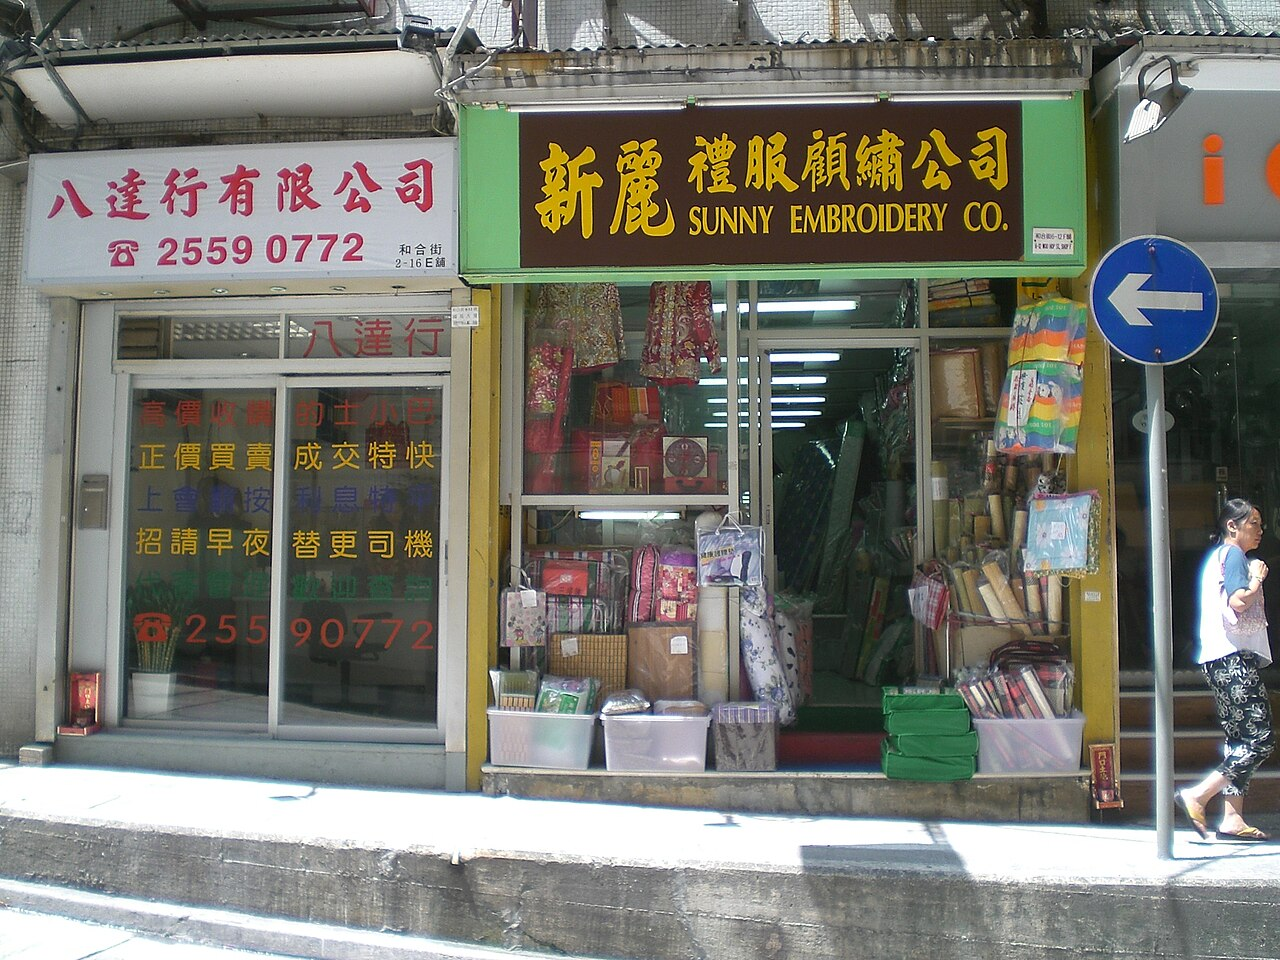Turn Left: (1090, 232, 1230, 367)
